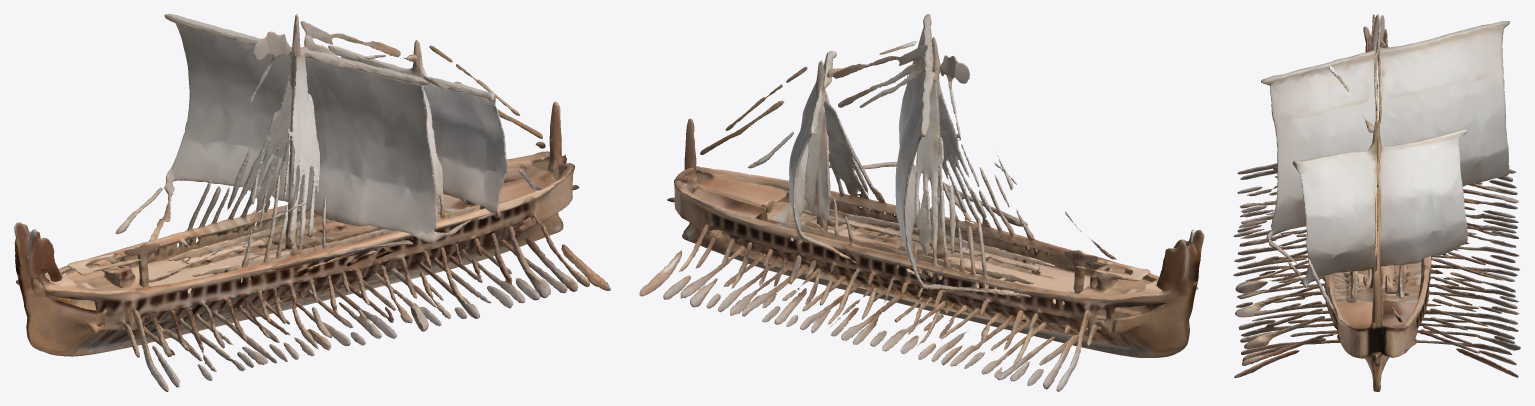
The model's file is trireme__trireme-model.glb.
The picture shows the model from 3 angles, left to right: view 1: azimuth 30°, elevation 25°; view 2: azimuth 150°, elevation 25°; view 3: azimuth 270°, elevation 25°; orthographic projection. The views are drawn at different scales.
Size of the model in its own units: 2.01 by 0.9867 by 0.9499.
1 material, 1 textured.
